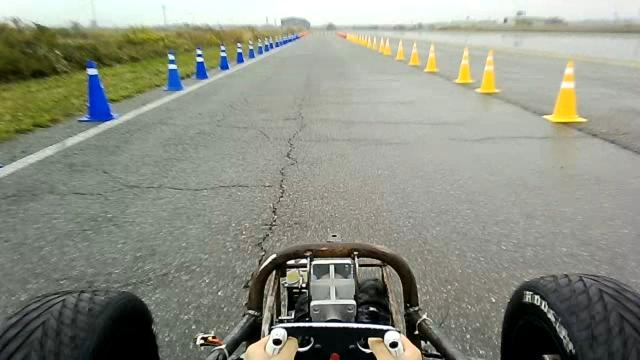blue cone: (76, 60, 115, 122), (163, 49, 184, 91), (192, 46, 208, 80), (218, 42, 230, 70), (235, 41, 245, 64), (247, 38, 256, 59), (257, 38, 264, 55), (263, 37, 270, 52)
yellow cone: (542, 60, 588, 123), (474, 48, 500, 93), (453, 46, 474, 84), (423, 42, 439, 73), (408, 41, 420, 66), (395, 39, 405, 61), (382, 36, 392, 55), (377, 36, 385, 54), (371, 35, 378, 51)
